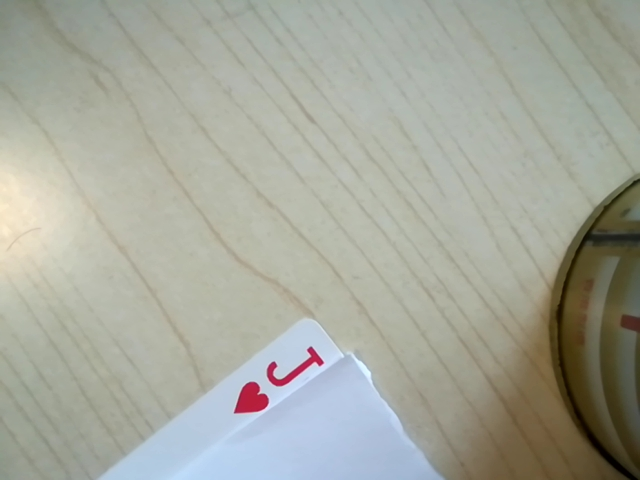hx j: (228, 342, 333, 417)
